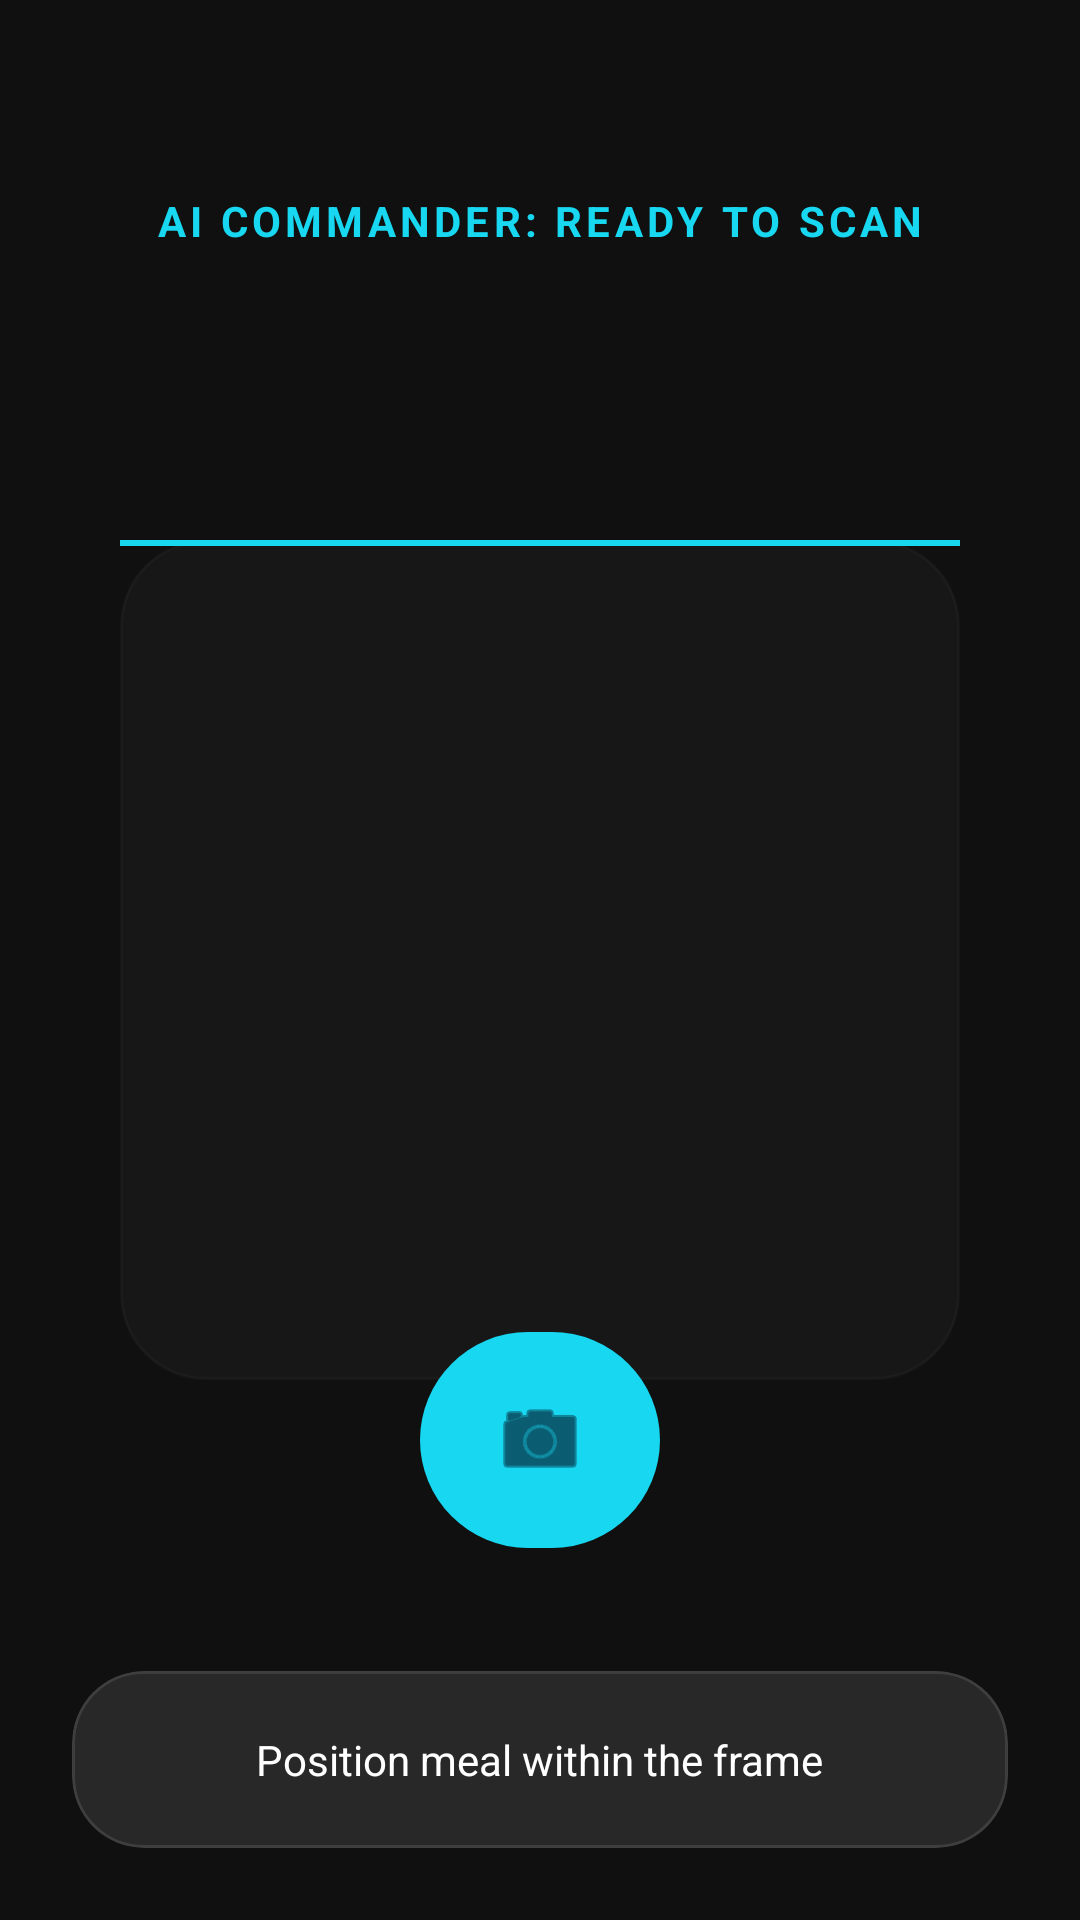

Point at icon controls on the screen. Image size 1080×1920, points as point (x, y).
camera: point (540, 1440)
